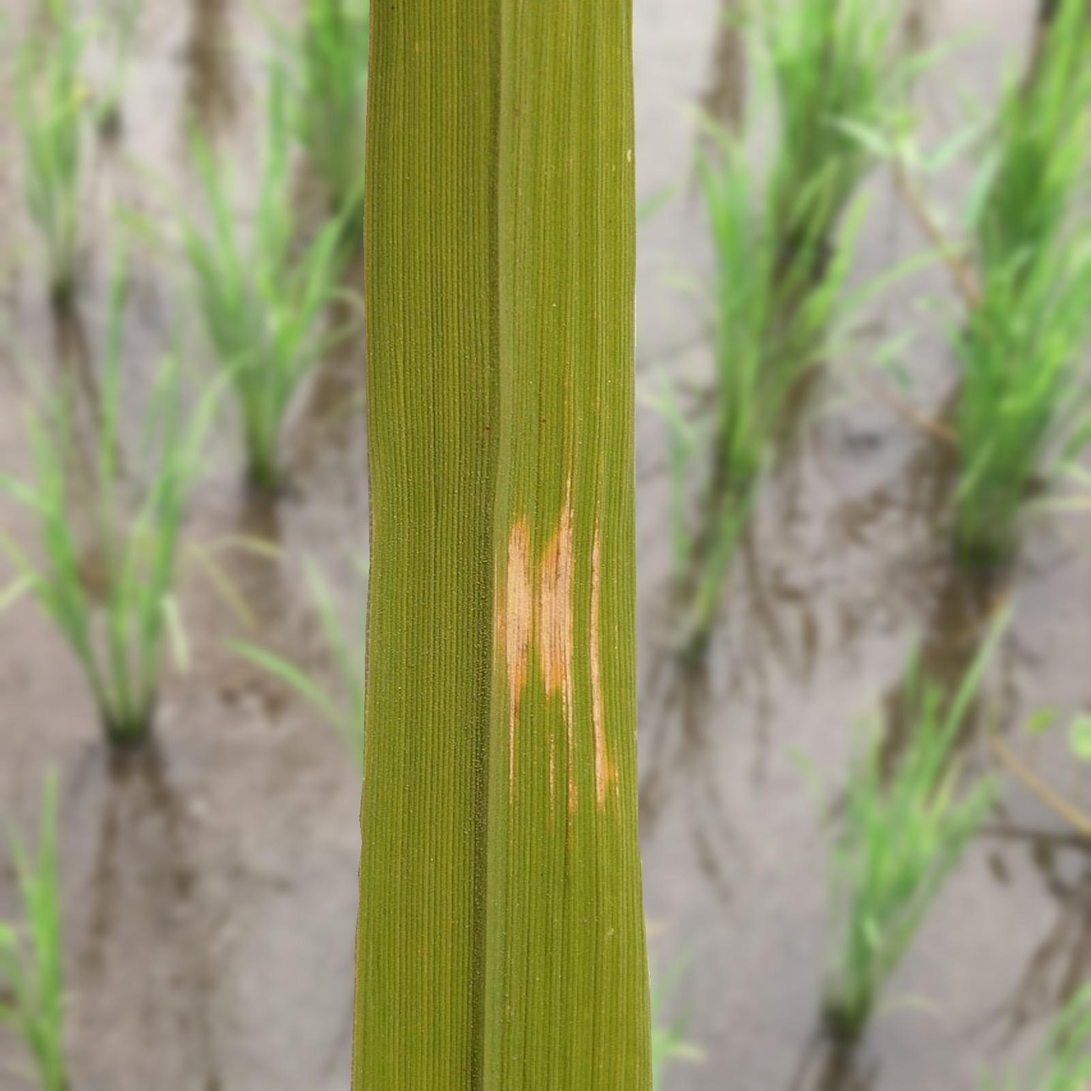BLS: (535, 474, 574, 743), (503, 517, 533, 790), (589, 525, 611, 809), (566, 744, 580, 828), (547, 732, 554, 822)
LEAF: (350, 0, 652, 1090)
